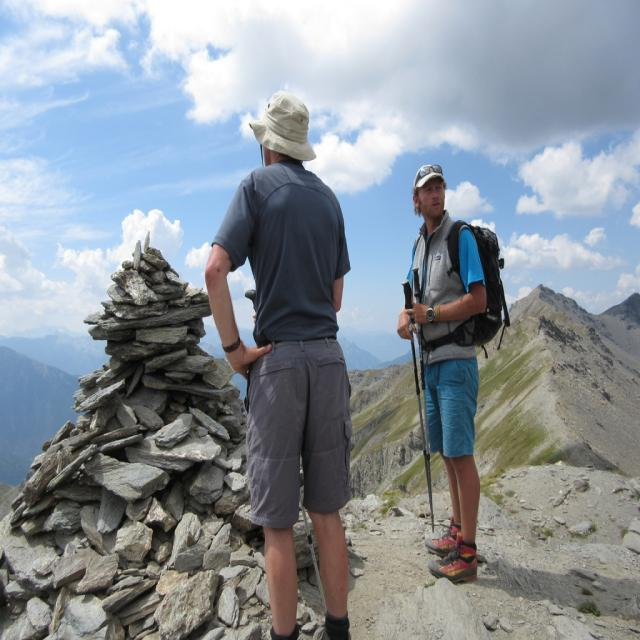backpack: (407, 224, 507, 355)
